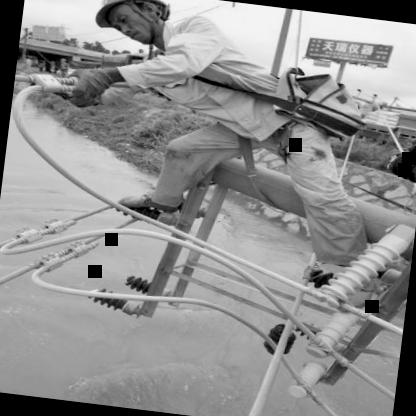helmet: (75, 0, 186, 54)
